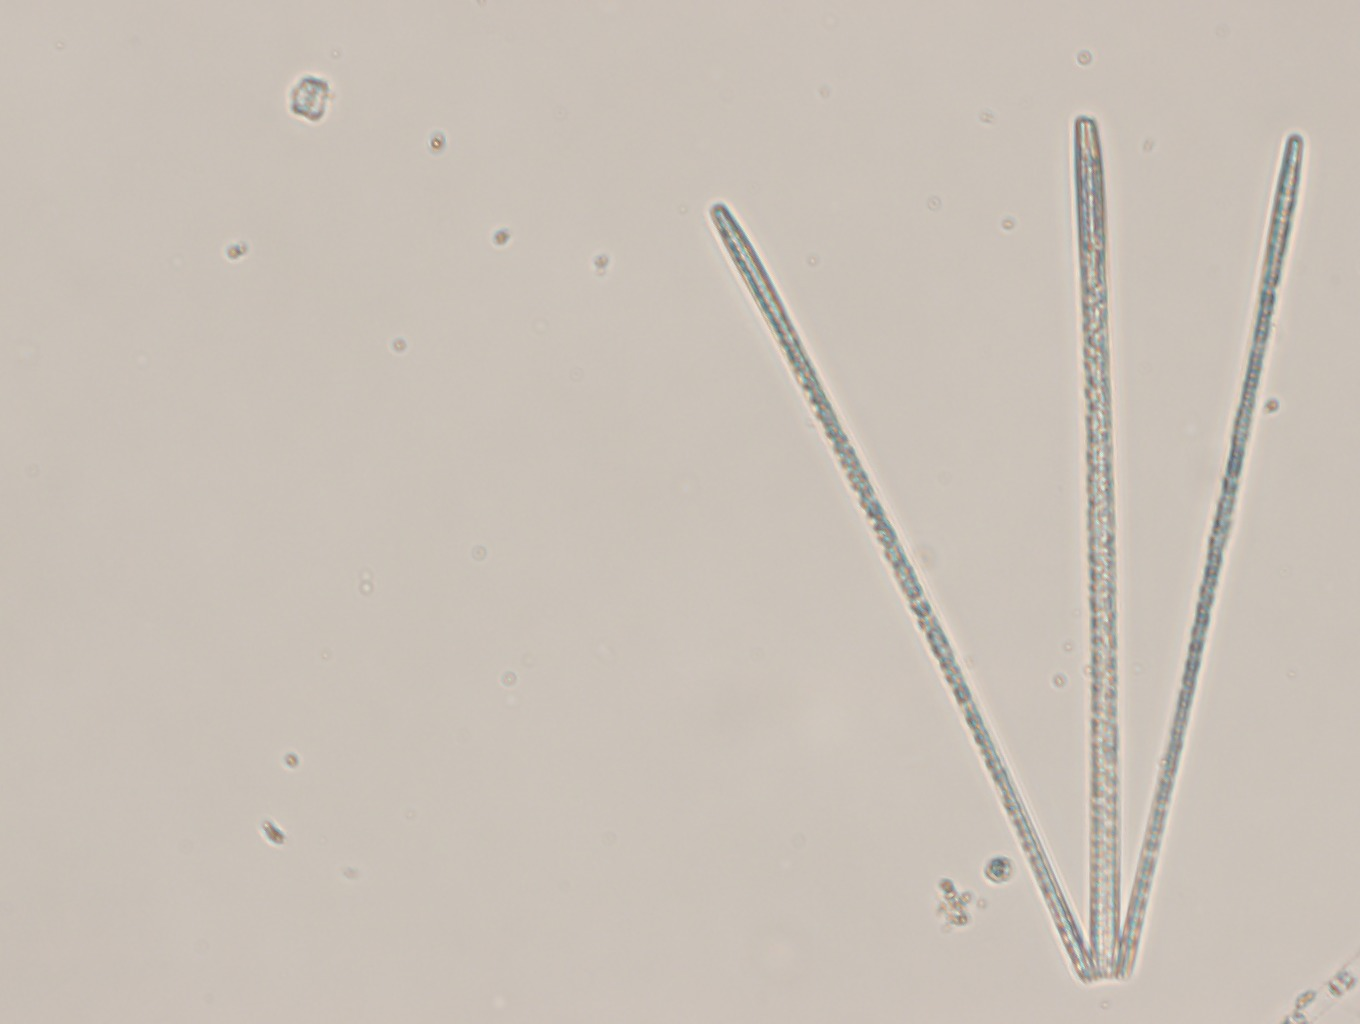thalassionema frauenfeldii: (696, 93, 1311, 994)
